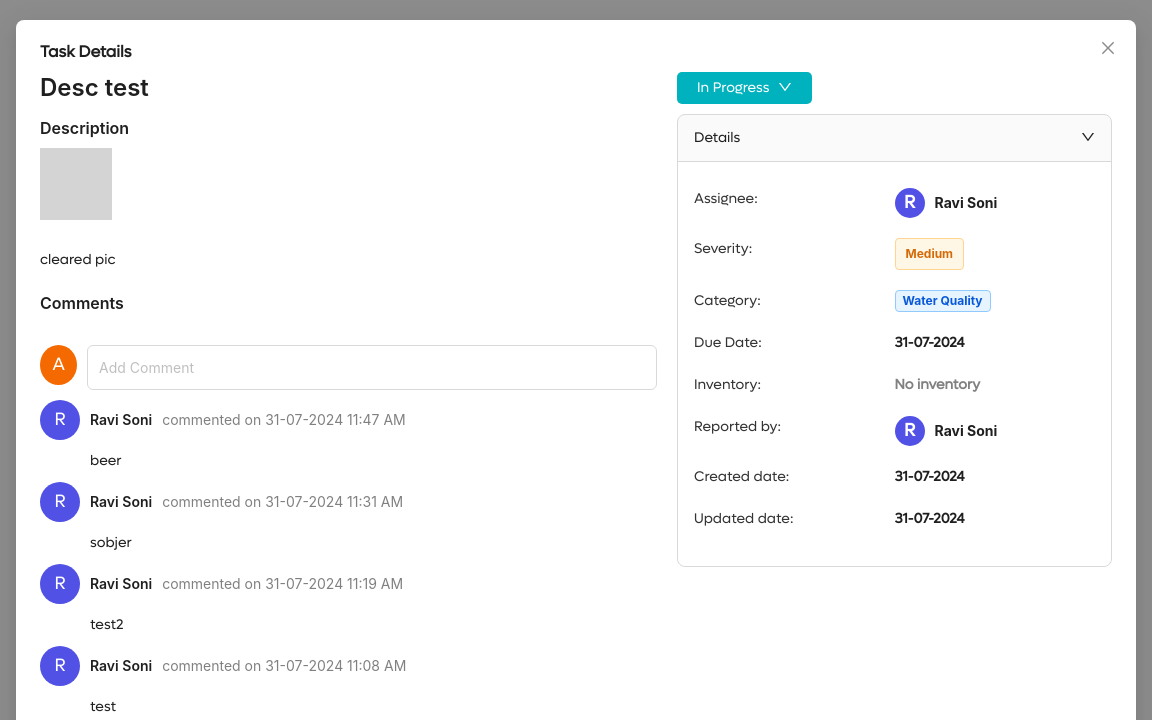
Scenario: Task Details › should inactive  the editable task fileld
The width and height of the screenshot is (1152, 720).
Click the element with test id "name-container" at (94, 94), box [40,72,149,116]
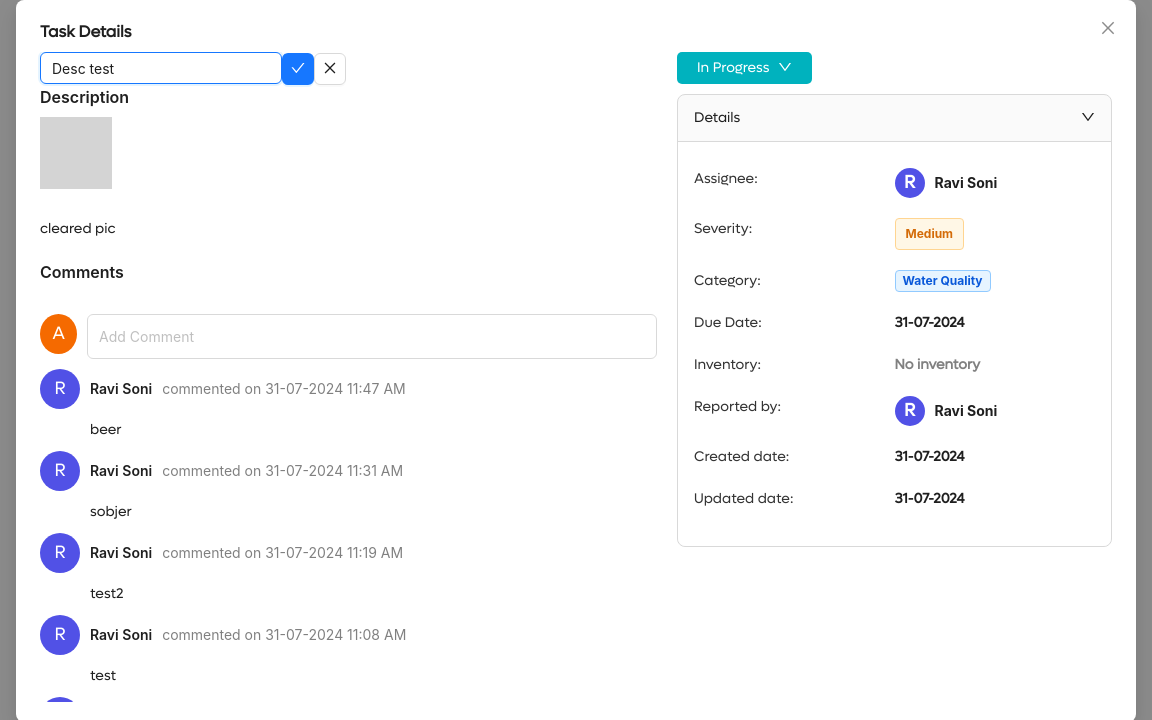
Click the button with test id "taskName-cancel" at (330, 68), box [314,52,346,84]
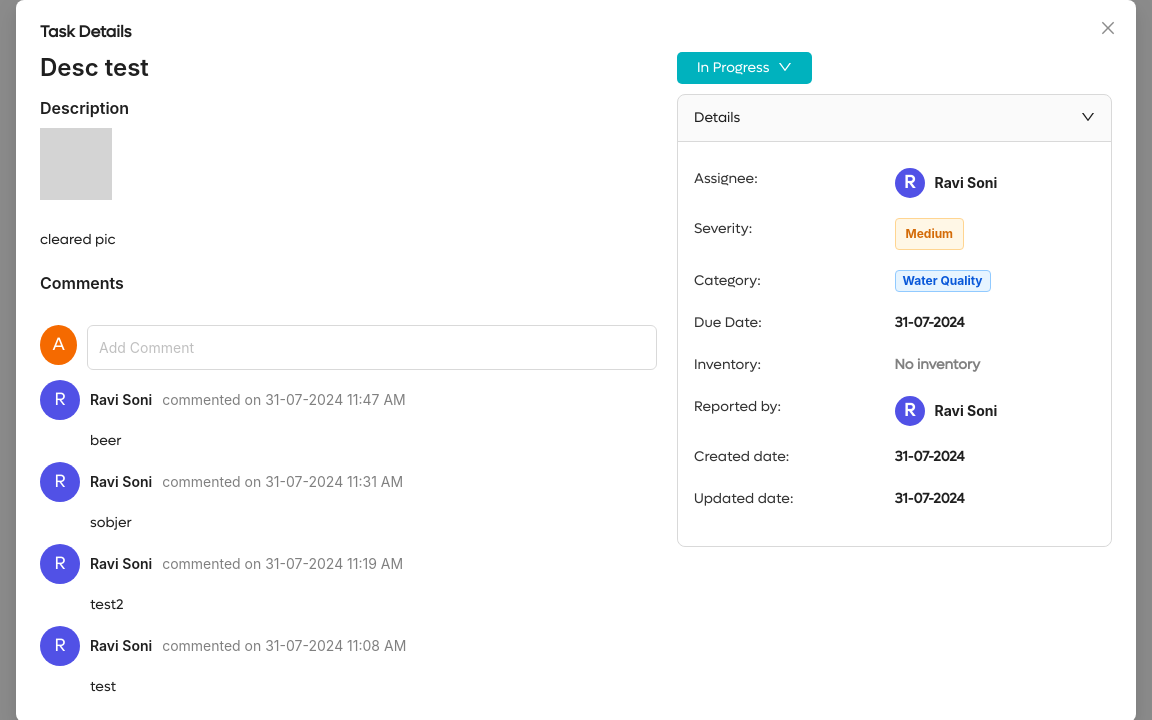
Expected: the field with test id "name-input" is gone
